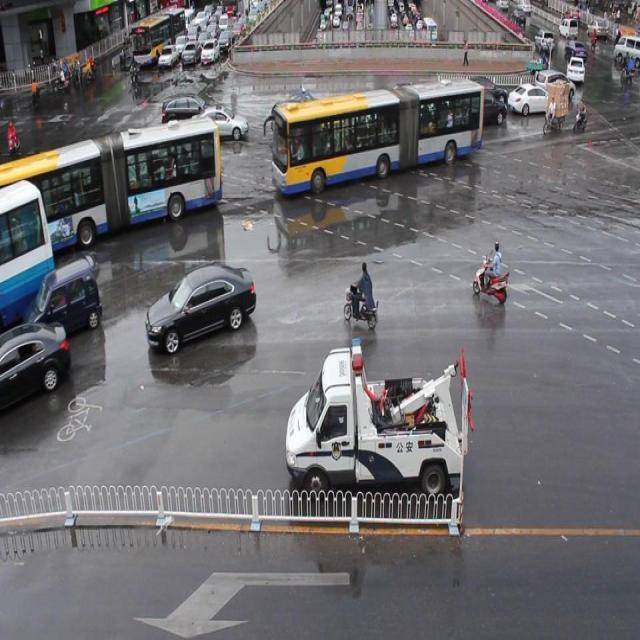bus: (285, 338, 464, 498)
car: (147, 260, 256, 352), (0, 179, 54, 328), (23, 255, 102, 338), (0, 320, 70, 405), (455, 90, 506, 128), (460, 76, 508, 111), (507, 81, 553, 115), (534, 69, 574, 104)
van: (1, 119, 220, 250), (273, 80, 483, 190)
